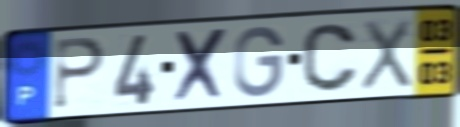4: (111, 30, 159, 109)
C: (300, 21, 361, 94)
G: (232, 24, 287, 101)
P: (51, 36, 108, 112)
X: (172, 25, 231, 106), (358, 15, 414, 93)
